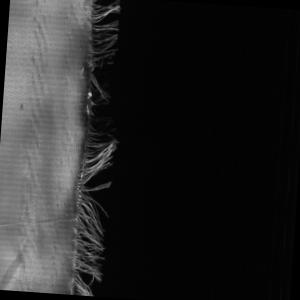Damage: (64, 1, 135, 299)
Wrinkle: (1, 1, 54, 293)
